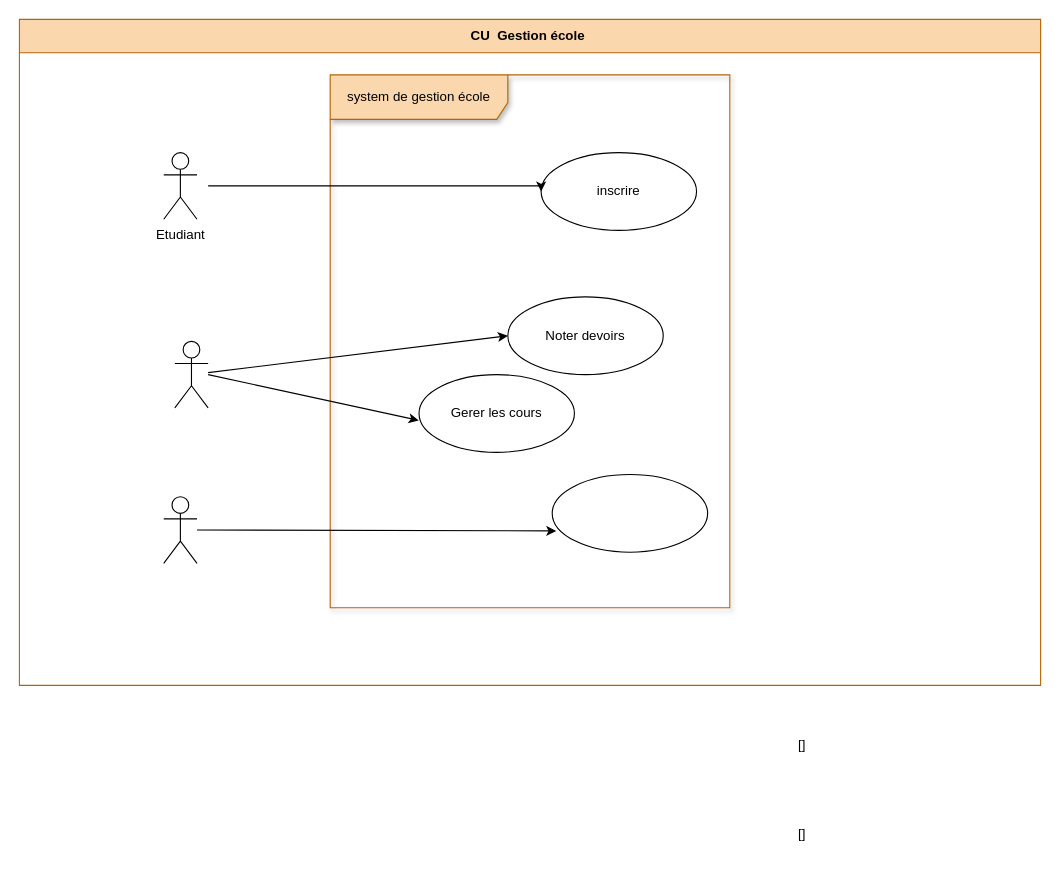
This 1060x882 diagram has some shape labels left out. Here are the shapes that lost their labels. From the top down, the centre of each, then its label:
(191,374): Administrateur
(180,529): enseignant
(629,512): gérer les comptes
